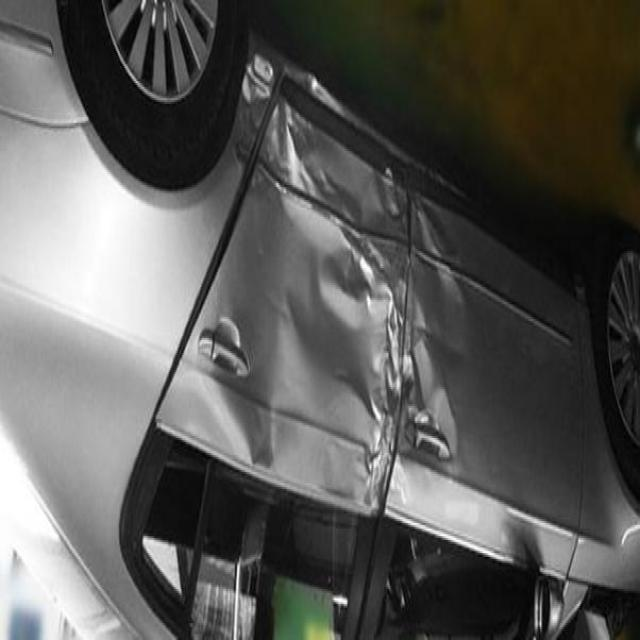dent: (242, 28, 466, 506)
